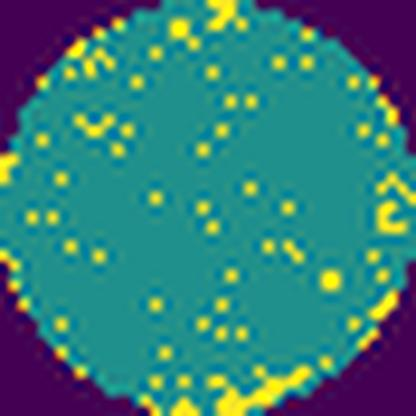Edge-Loc: (214, 357, 314, 416), (200, 0, 236, 32), (168, 394, 199, 416)
